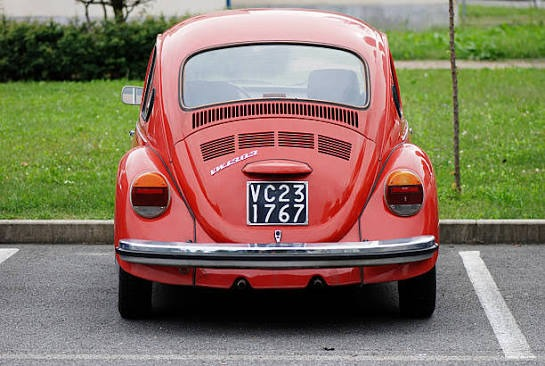car: (112, 4, 441, 327), (115, 14, 446, 328)
